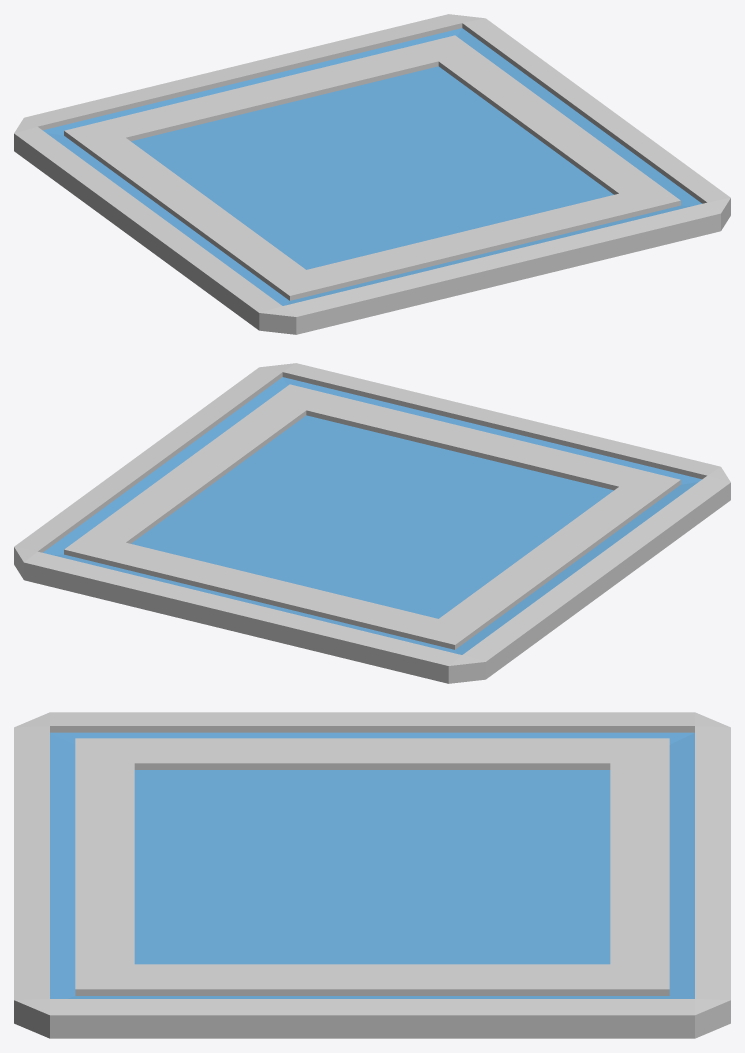
File: ground_02.fbx
3 views of the same model, one above another, from view 1: azimuth 30°, elevation 25°; view 2: azimuth 150°, elevation 25°; view 3: azimuth 270°, elevation 25° (orthographic). The views are drawn at different scales.
Visible parts, largest first — view 1: Cube.009; view 2: Cube.009; view 3: Cube.009.
Part boxes in pixels (left/top/right/bottom): Cube.009: left=14, top=14, right=730, bottom=334; Cube.009: left=14, top=363, right=730, bottom=683; Cube.009: left=14, top=712, right=730, bottom=1038.
Bounding box in the file's own units: 1000 × 40 × 1000.
